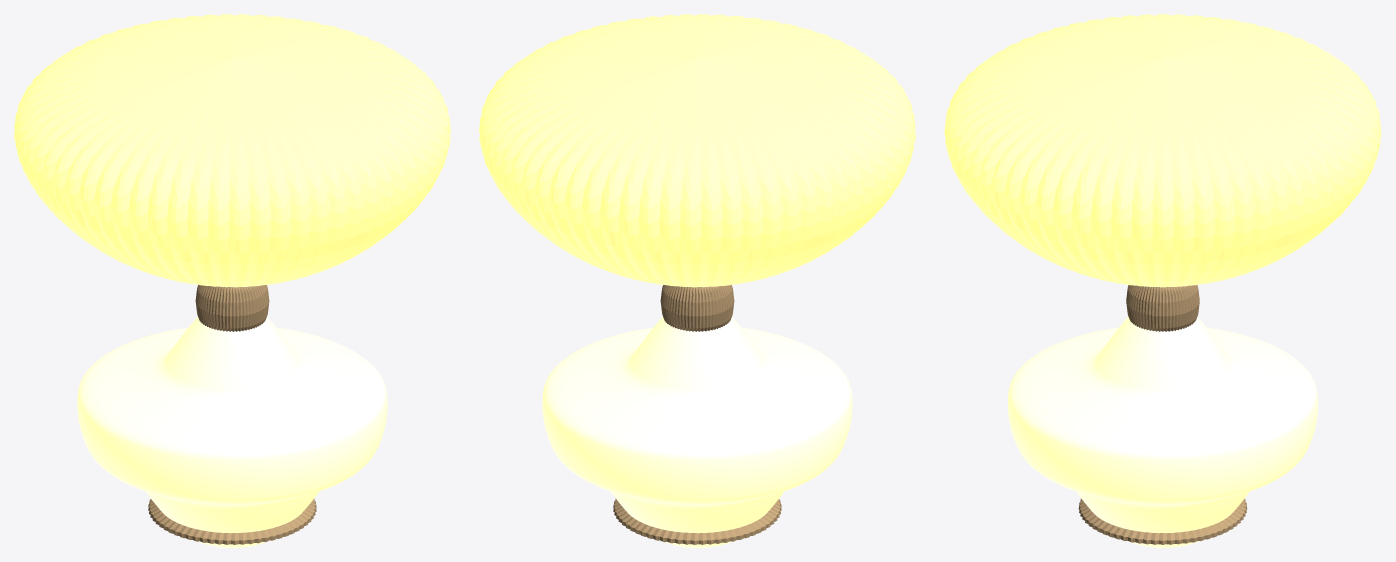
3 renders of one model, left to right at view 1: azimuth 30°, elevation 25°; view 2: azimuth 150°, elevation 25°; view 3: azimuth 270°, elevation 25°, orthographic.
Parts seen in each view (by area): view 1: Amber_Shade, Glass_Bulb, Brass_Neck, Brass_Base; view 2: Amber_Shade, Glass_Bulb, Brass_Neck, Brass_Base; view 3: Amber_Shade, Glass_Bulb, Brass_Neck, Brass_Base.
Part boxes in pixels (bbox=[...]): Amber_Shade: bbox=[14, 14, 450, 287]; Glass_Bulb: bbox=[77, 317, 387, 547]; Brass_Neck: bbox=[195, 284, 269, 331]; Brass_Base: bbox=[148, 498, 316, 544]; Amber_Shade: bbox=[479, 14, 915, 287]; Glass_Bulb: bbox=[542, 317, 852, 547]; Brass_Neck: bbox=[660, 284, 734, 331]; Brass_Base: bbox=[613, 498, 781, 544]; Amber_Shade: bbox=[944, 14, 1381, 287]; Glass_Bulb: bbox=[1007, 316, 1318, 547]; Brass_Neck: bbox=[1126, 285, 1199, 331]; Brass_Base: bbox=[1078, 498, 1247, 544].
Size of the model in its own units: 2.47 by 2.94 by 2.47.
